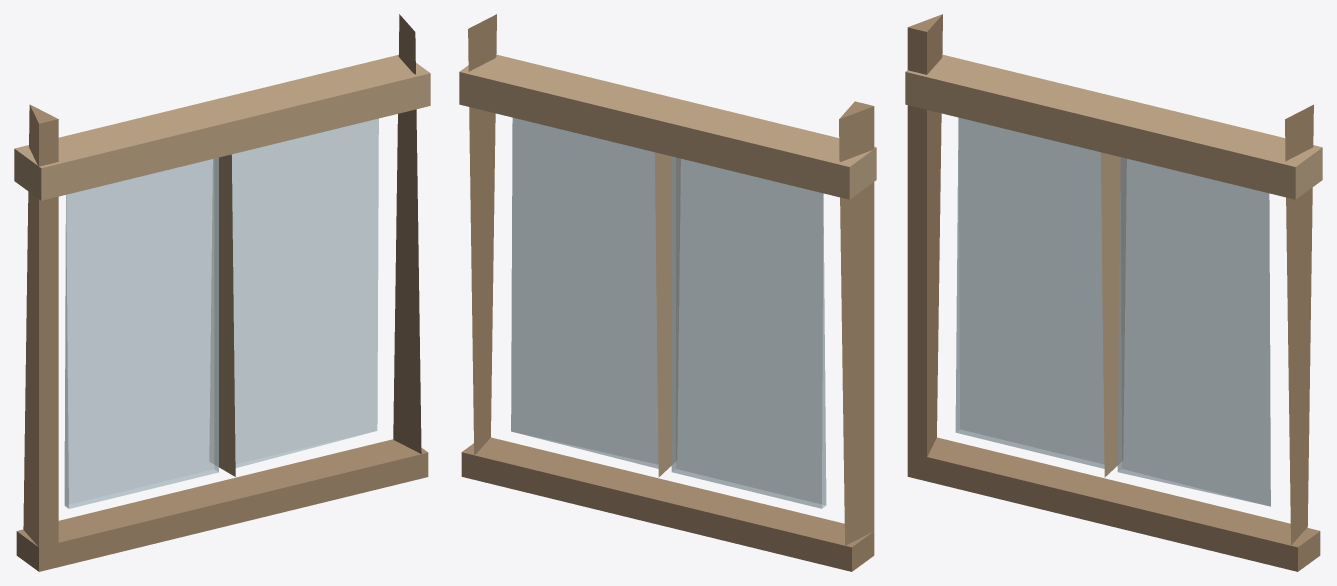
File: 18-Casas_ventana_marco.glb
3 renders of one model, left to right at view 1: azimuth 30°, elevation 25°; view 2: azimuth 150°, elevation 25°; view 3: azimuth 330°, elevation 25°, orthographic.
Visible parts, largest first — view 1: SM_Ventana_M_Ventana_Cristal, SM_Ventana_M_Ventana_Marco, SM_Ventana_M_Ventana_MarcoClaro; view 2: SM_Ventana_M_Ventana_Cristal, SM_Ventana_M_Ventana_Marco, SM_Ventana_M_Ventana_MarcoClaro; view 3: SM_Ventana_M_Ventana_Cristal, SM_Ventana_M_Ventana_Marco, SM_Ventana_M_Ventana_MarcoClaro.
Boxes of the visible parts, x1,y1,x2,y2 form: SM_Ventana_M_Ventana_Cristal: (64, 118, 378, 508); SM_Ventana_M_Ventana_Marco: (16, 14, 428, 571); SM_Ventana_M_Ventana_MarcoClaro: (14, 55, 430, 476); SM_Ventana_M_Ventana_Cristal: (511, 117, 826, 508); SM_Ventana_M_Ventana_Marco: (461, 14, 874, 571); SM_Ventana_M_Ventana_MarcoClaro: (459, 54, 876, 477); SM_Ventana_M_Ventana_Cristal: (955, 117, 1270, 506); SM_Ventana_M_Ventana_Marco: (907, 14, 1320, 571); SM_Ventana_M_Ventana_MarcoClaro: (905, 54, 1322, 477).
Size of the model in its own units: 1 by 1.1 by 0.12.
